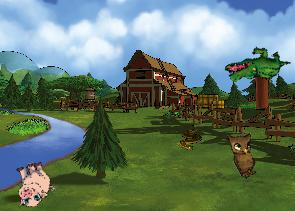crocodile: (222, 35, 291, 97)
owl: (222, 126, 268, 180)
pig: (8, 158, 57, 209)
